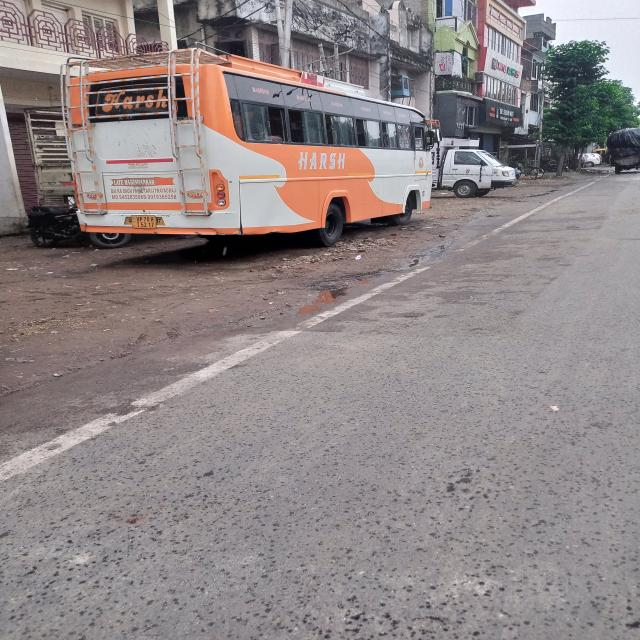Bus: (62, 49, 438, 245)
Traveller: (433, 146, 517, 198)
Truck: (607, 128, 640, 174)
